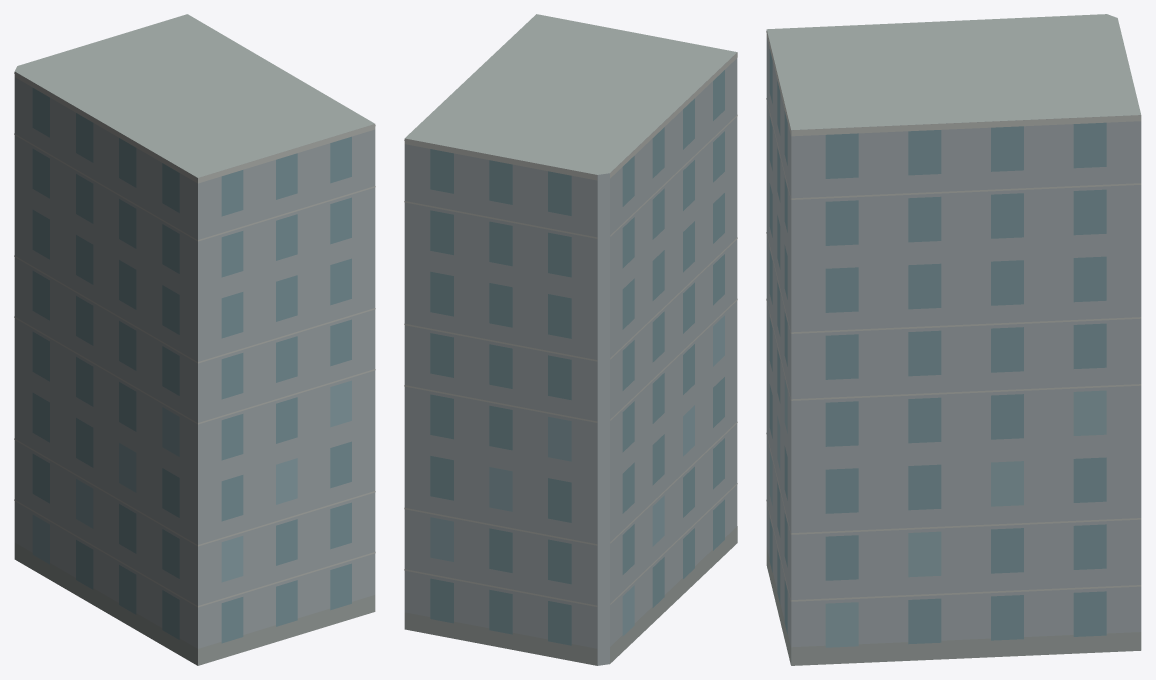
The model's file is survey-upis-32919017.glb.
3 renders of one model, left to right at view 1: azimuth 30°, elevation 25°; view 2: azimuth 150°, elevation 25°; view 3: azimuth 270°, elevation 25°, orthographic. The views are drawn at different scales.
Visible parts, largest first — view 1: survey-upis-32919017.tmp; view 2: survey-upis-32919017.tmp; view 3: survey-upis-32919017.tmp.
Boxes of the visible parts, left/top/right/bottom form: survey-upis-32919017.tmp: left=14, top=14, right=375, bottom=665; survey-upis-32919017.tmp: left=404, top=14, right=737, bottom=665; survey-upis-32919017.tmp: left=766, top=14, right=1141, bottom=665.
Size of the model in its own units: 9.88 by 21.2 by 13.46.
